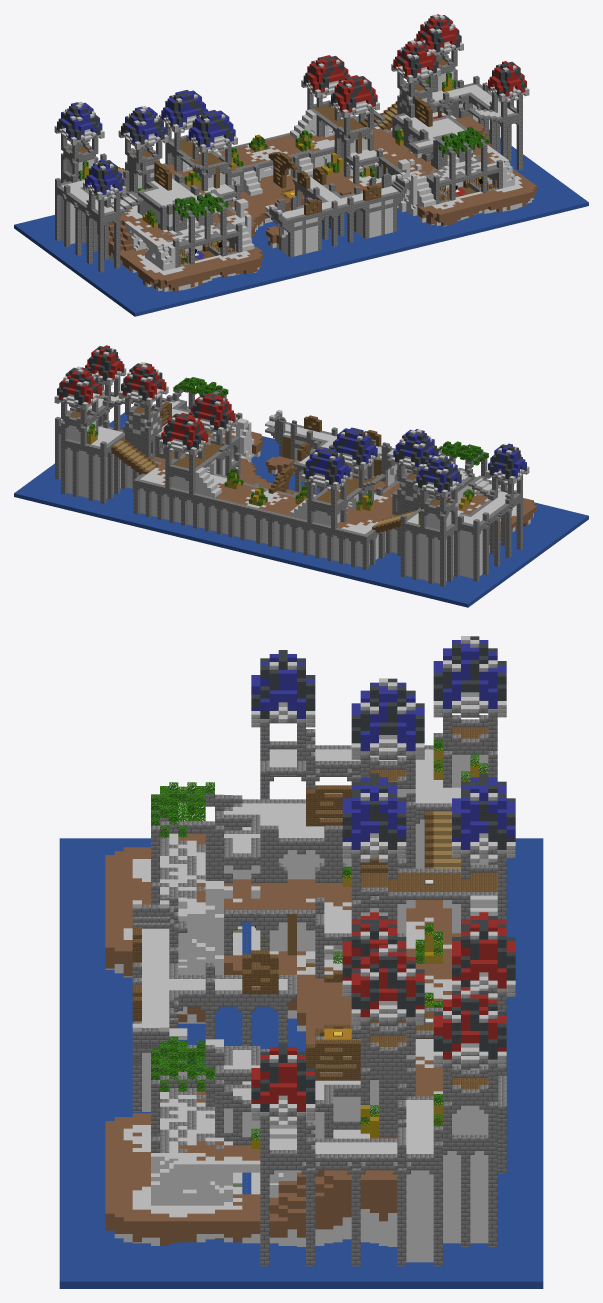
File: minecraft.obj
The picture shows the model from 3 angles, top to bottom: view 1: azimuth 30°, elevation 25°; view 2: azimuth 150°, elevation 25°; view 3: azimuth 270°, elevation 25°; orthographic projection. The views are drawn at different scales.
Size of the model in its own units: 115 by 30.5 by 53.
